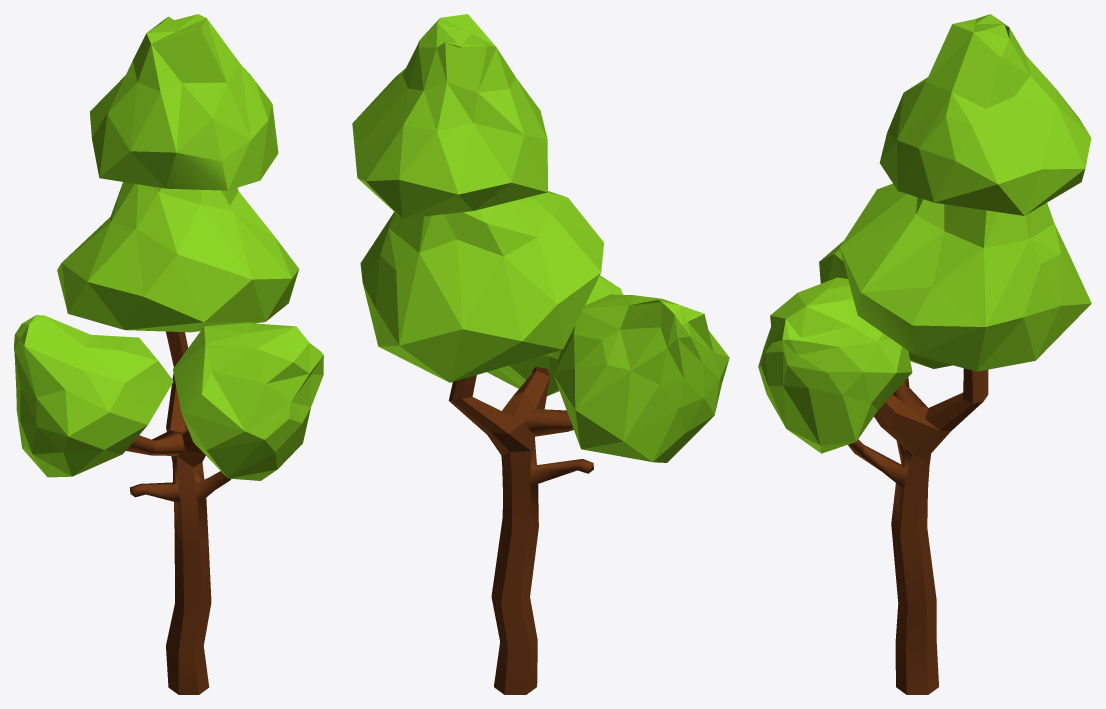
File: Tree6.fbx
The picture shows the model from 3 angles, left to right: view 1: azimuth 30°, elevation 25°; view 2: azimuth 150°, elevation 25°; view 3: azimuth 270°, elevation 25°; orthographic projection. The views are drawn at different scales.
Visible parts, largest first — view 1: Tree6; view 2: Tree6; view 3: Tree6.
Boxes of the visible parts, bbox=[...] form: Tree6: bbox=[14, 14, 323, 694]; Tree6: bbox=[352, 14, 729, 694]; Tree6: bbox=[758, 14, 1091, 694].
Size of the model in its own units: 469 by 993 by 443.
